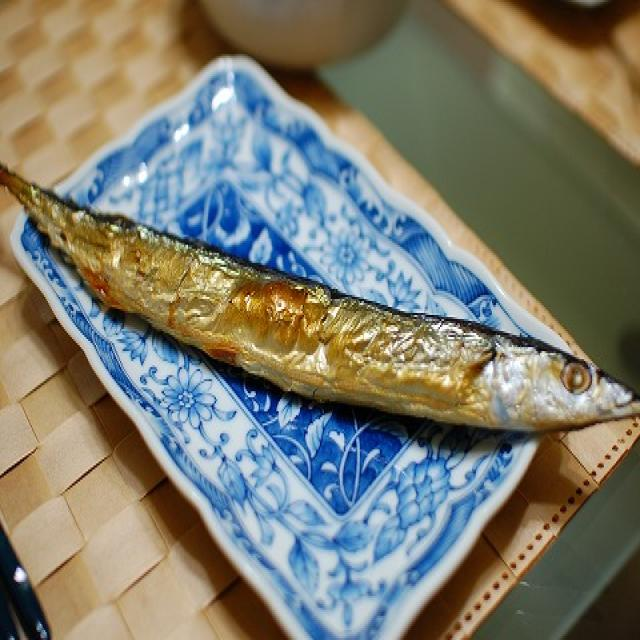熟制海鲜: (0, 154, 640, 470)
